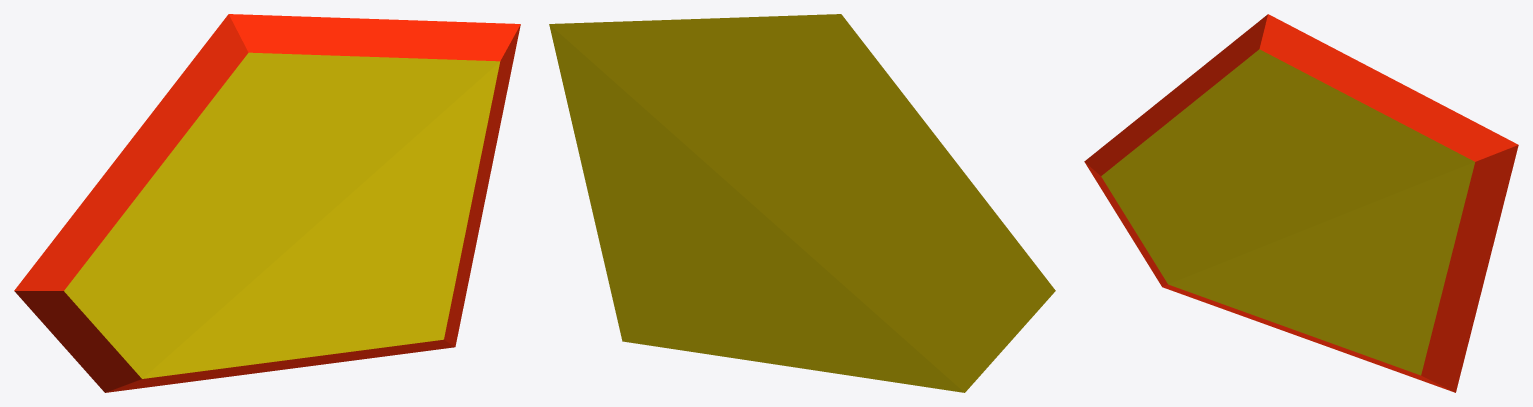
The model's file is RockFlat4.glb.
The picture shows the model from 3 angles, left to right: view 1: azimuth 30°, elevation 25°; view 2: azimuth 150°, elevation 25°; view 3: azimuth 330°, elevation 25°; orthographic projection. The views are drawn at different scales.
Parts seen in each view (by area): view 1: RockFlat4; view 2: RockFlat4; view 3: RockFlat4.
Part boxes in pixels (x1,y1,x2,y2): RockFlat4: (14,14,520,392); RockFlat4: (549,14,1055,392); RockFlat4: (1084,14,1518,392).
Size of the model in its own units: 3.35 by 2.43 by 0.2116.
